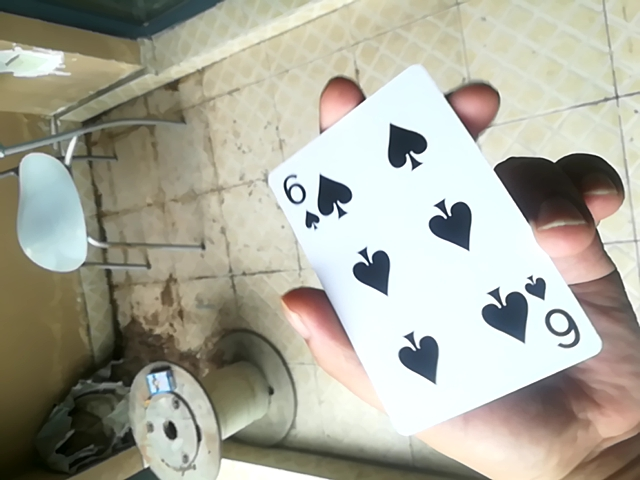ht 6: (267, 64, 595, 447)
